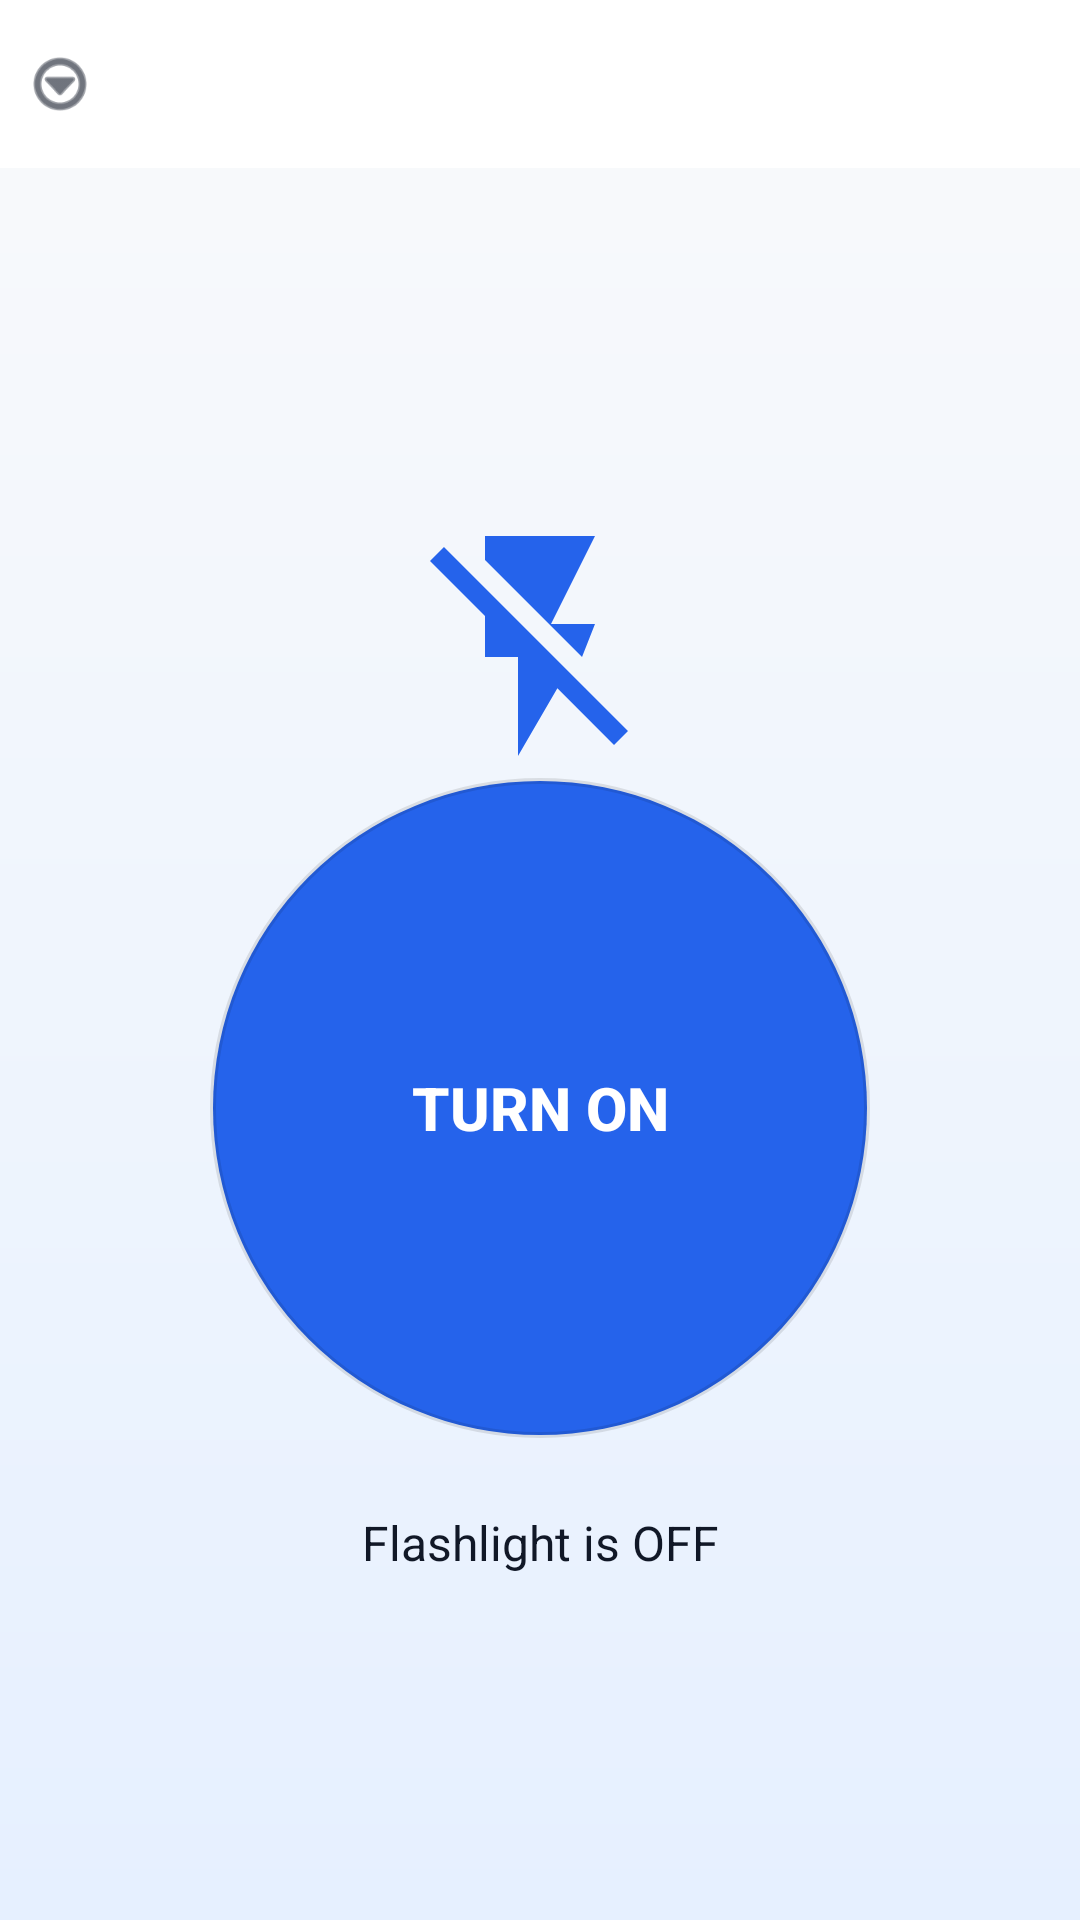

Where icons sit on this 1080w x 1920h app screen, as (x1,y1,x2,y2):
flash off: (430,536,628,756)
